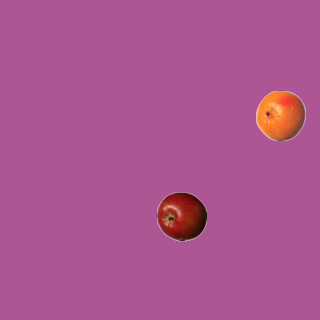Apple Braeburn: (156, 191, 206, 241)
Grapefruit Pink: (255, 90, 305, 140)
